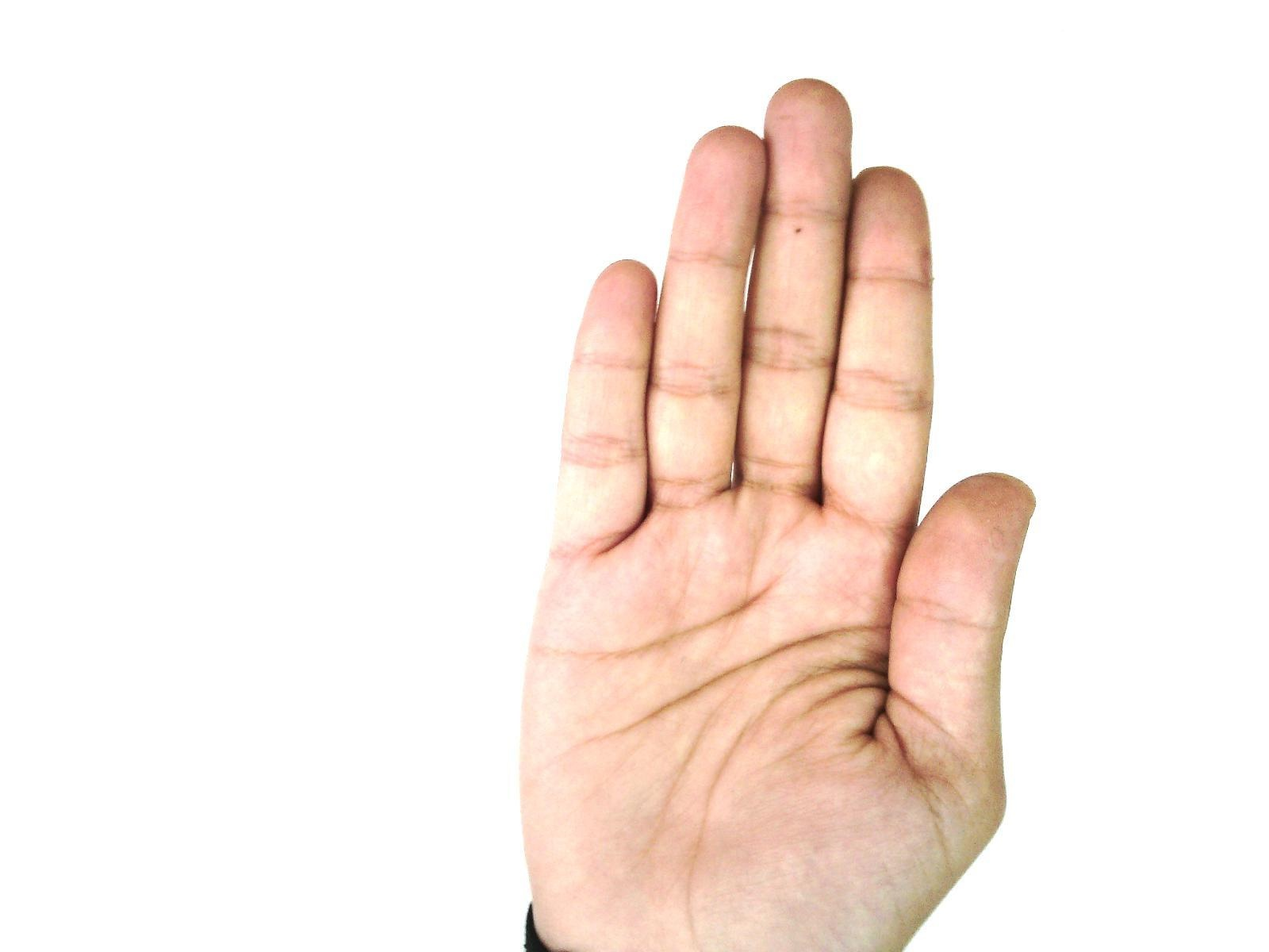open_palm: (515, 77, 1039, 951)
